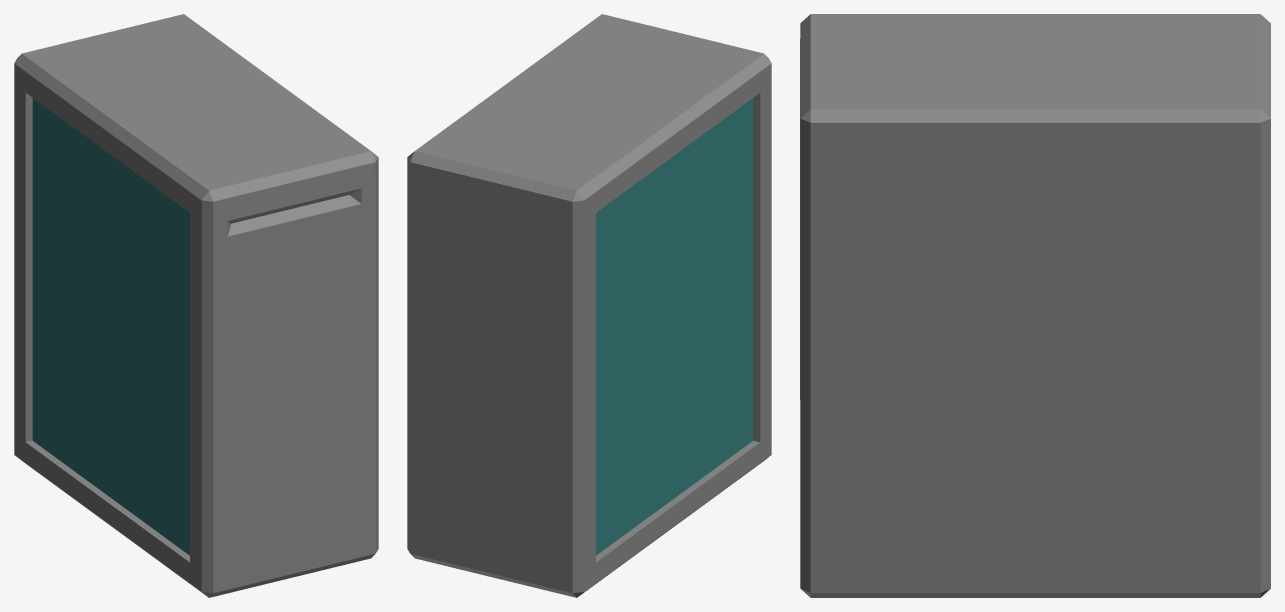
3 views of the same model, side by side, from view 1: azimuth 30°, elevation 25°; view 2: azimuth 150°, elevation 25°; view 3: azimuth 270°, elevation 25° (orthographic). The views are drawn at different scales.
Parts seen in each view (by area): view 1: PC; view 2: PC; view 3: PC.
Part boxes in pixels (x1,y1,x2,y2): PC: (14, 14, 378, 597); PC: (407, 14, 771, 597); PC: (800, 14, 1270, 597).
Bounding box in the file's own units: 173 × 380 × 332.
